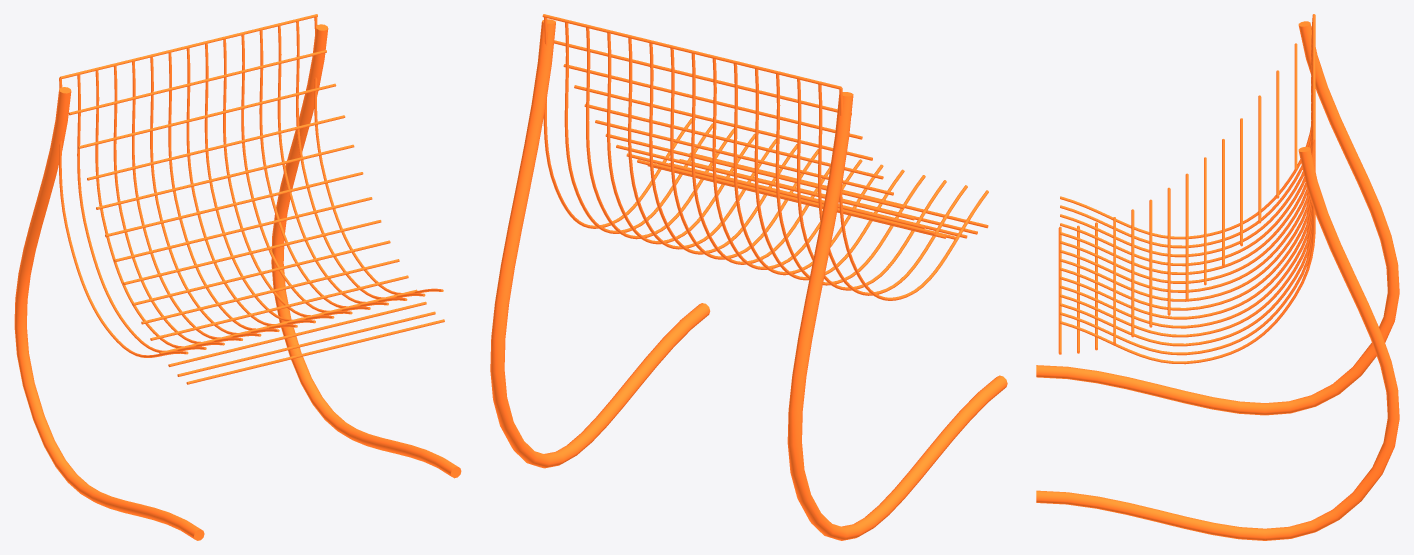
Rendered from ref05_10.glb.
3 renders of one model, left to right at view 1: azimuth 30°, elevation 25°; view 2: azimuth 150°, elevation 25°; view 3: azimuth 270°, elevation 25°, orthographic. The views are drawn at different scales.
Visible parts, largest first — view 1: ref05_10; view 2: ref05_10; view 3: ref05_10.
Part boxes in pixels (bbox=[...]): ref05_10: bbox=[14, 14, 461, 540]; ref05_10: bbox=[490, 14, 1007, 540]; ref05_10: bbox=[1036, 14, 1399, 540].
Bounding box in the file's own units: 0.646 × 0.923 × 0.7586.
